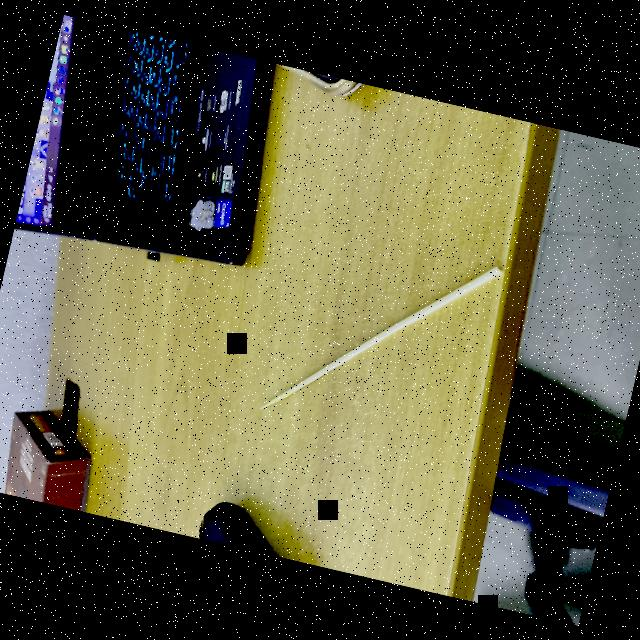stick: (252, 209, 520, 465)
